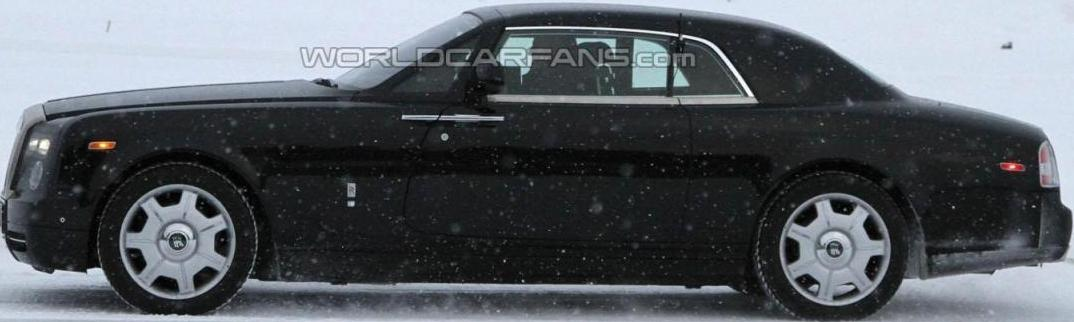headlight: (19, 120, 89, 207)
side_glass: (396, 28, 747, 91)
